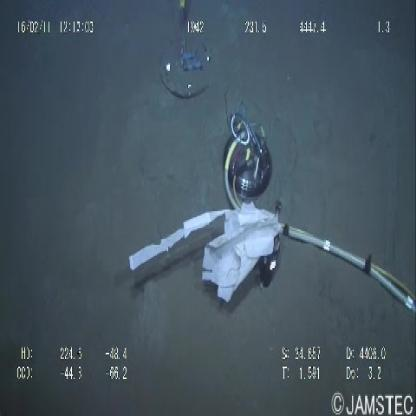Rov: (221, 95, 273, 205), (157, 1, 212, 104)
Rác: (127, 204, 284, 307)
